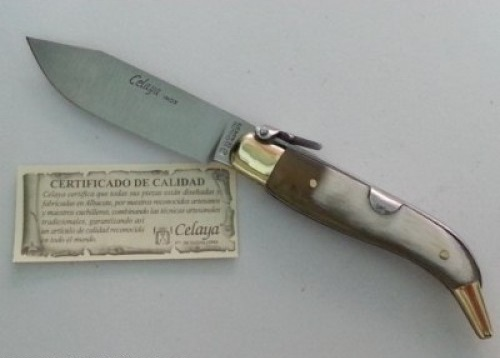knife: (21, 29, 250, 175)
